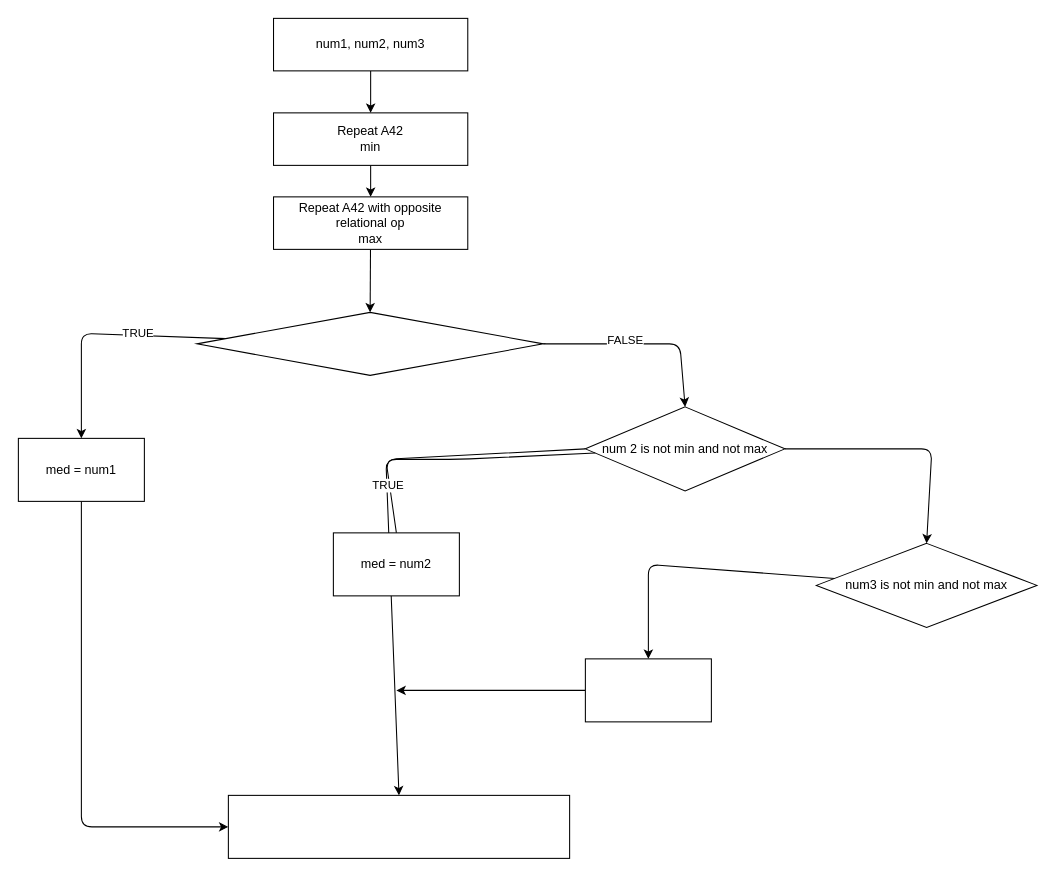
Image size: 1055x877. Some labels were removed from this diagram. Here are the shapes that lost their labels. From the top down, the centre of each, then its label:
At point 369,343: "num1 is not min and not max".
At point 647,690: "med = num3".
At point 398,826: "Print min, med, and max".
